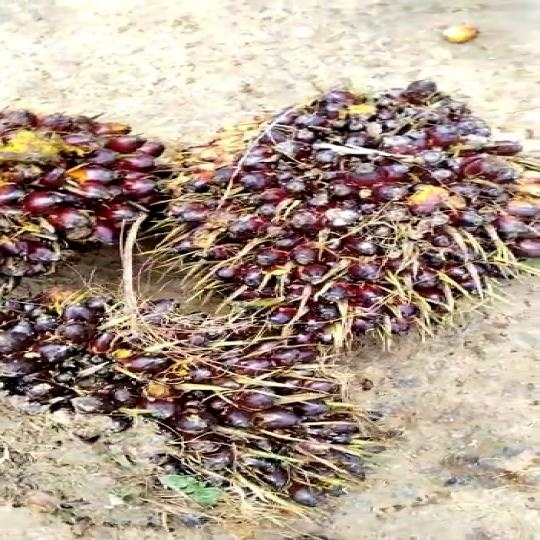kurang masak: (0, 284, 393, 537), (191, 73, 540, 347), (0, 85, 191, 303)
